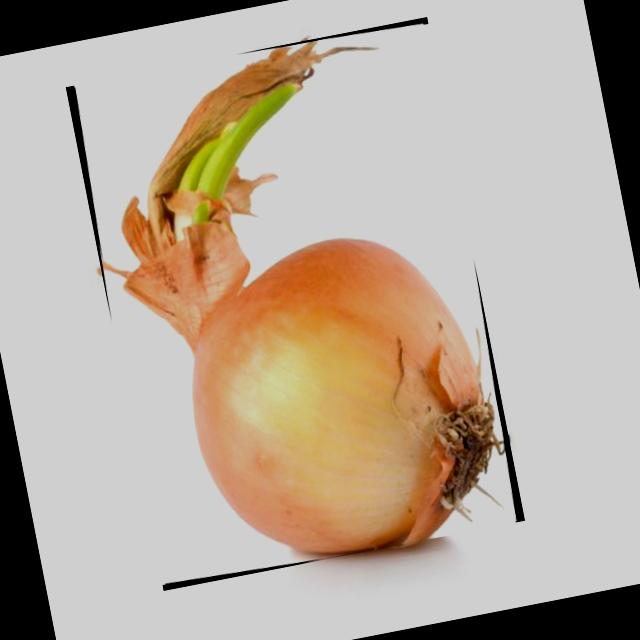sprouting: (103, 41, 505, 553)
